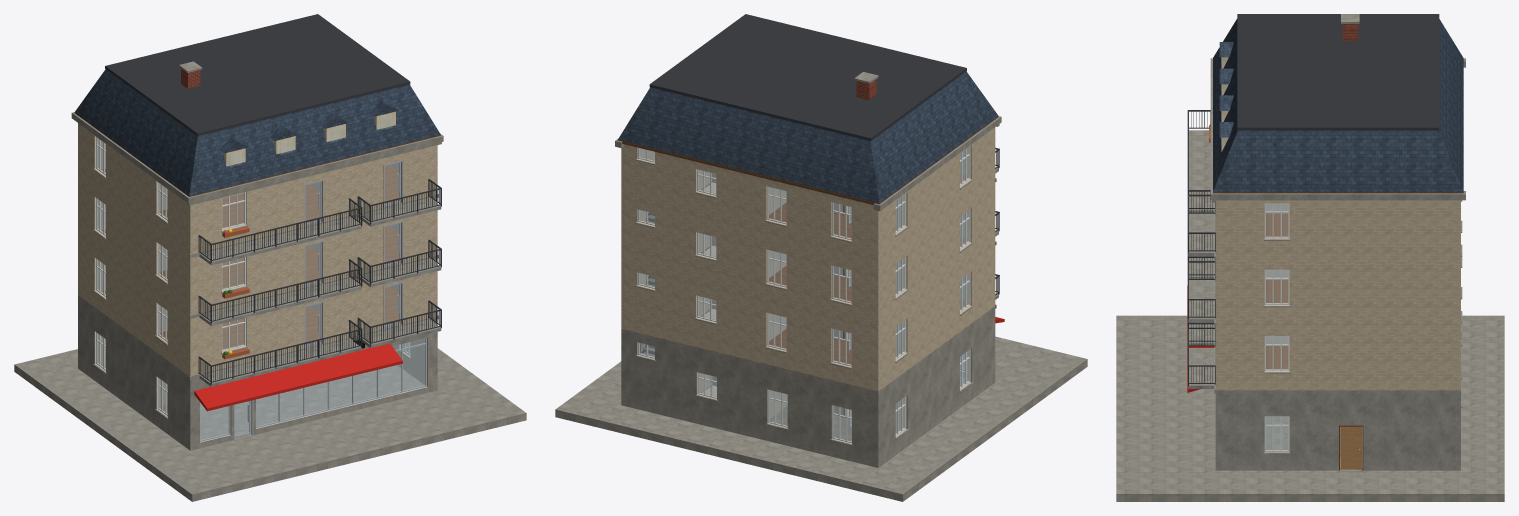
Rendered from b_paris_haussmann.gltf.
3 views of the same model, side by side, from view 1: azimuth 30°, elevation 25°; view 2: azimuth 150°, elevation 25°; view 3: azimuth 270°, elevation 25° (orthographic). The views are drawn at different scales.
Visible parts, largest first — view 1: S_paris_haussmann, D_paris_haussmann_F2_S2_Door0, D_paris_haussmann_F2_S1_Door0, D_paris_haussmann_F3_S2_Door0, D_paris_haussmann_F4_S2_Door0, D_paris_haussmann_F4_S1_Door0, D_paris_haussmann_F3_S1_Door0, D_paris_haussmann_F1_S2_Door0; view 2: S_paris_haussmann; view 3: S_paris_haussmann, D_paris_haussmann_F1_E1_Door0.
Boxes of the visible parts, x1,y1,x2,y2 form: S_paris_haussmann: (14,14,526,501); D_paris_haussmann_F2_S2_Door0: (384,283,400,327); D_paris_haussmann_F2_S1_Door0: (305,303,321,347); D_paris_haussmann_F3_S2_Door0: (384,222,400,267); D_paris_haussmann_F4_S2_Door0: (384,162,400,206); D_paris_haussmann_F4_S1_Door0: (305,181,321,225); D_paris_haussmann_F3_S1_Door0: (305,242,321,286); D_paris_haussmann_F1_S2_Door0: (235,400,251,438); S_paris_haussmann: (555,14,1087,501); S_paris_haussmann: (1116,14,1504,501); D_paris_haussmann_F1_E1_Door0: (1340,426,1361,469).
Size of the model in its own units: 19 by 18 by 17.5.
Materials: 28 (14 with a texture image).
